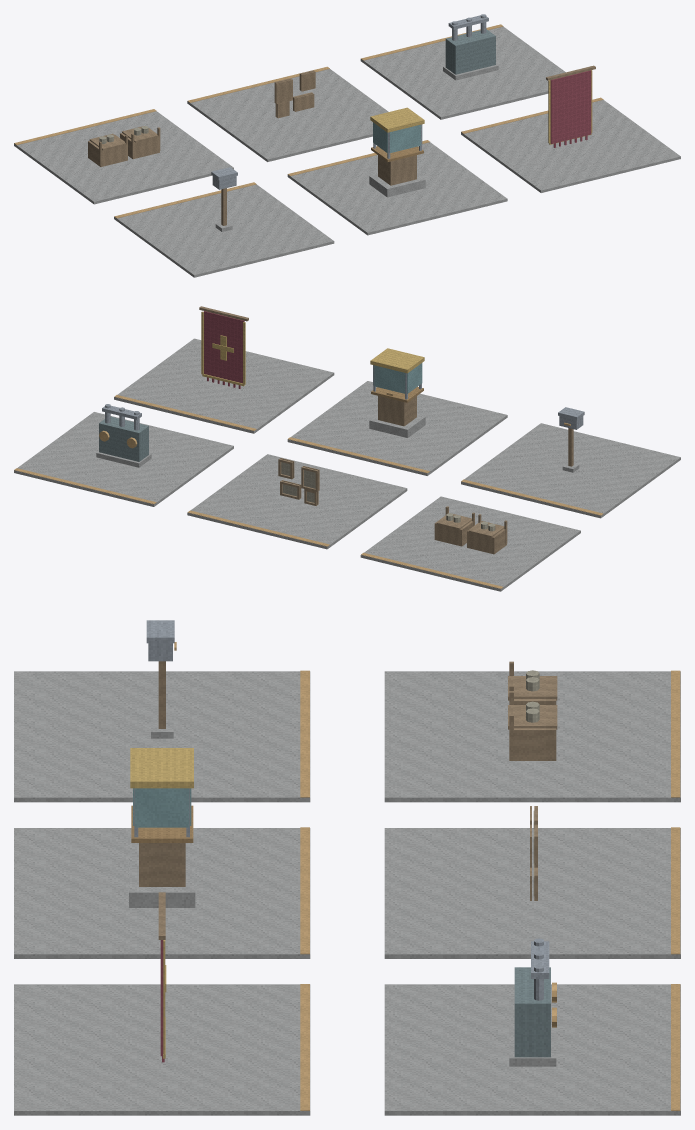
The model's file is level_blockout_kit_mansion_p02.glb.
The picture shows the model from 3 angles, top to bottom: view 1: azimuth 30°, elevation 25°; view 2: azimuth 150°, elevation 25°; view 3: azimuth 270°, elevation 25°; orthographic projection. The views are drawn at different scales.
Parts seen in each view (by area): view 1: level_blockout_kit_mansion_p02; view 2: level_blockout_kit_mansion_p02; view 3: level_blockout_kit_mansion_p02.
Part boxes in pixels (x1,y1,x2,y2): level_blockout_kit_mansion_p02: (14,14,680,277); level_blockout_kit_mansion_p02: (14,306,680,591); level_blockout_kit_mansion_p02: (14,620,680,1115).
Size of the model in its own units: 19.65 by 2.88 by 12.6.
Materials: 10 (10 with a texture image).
